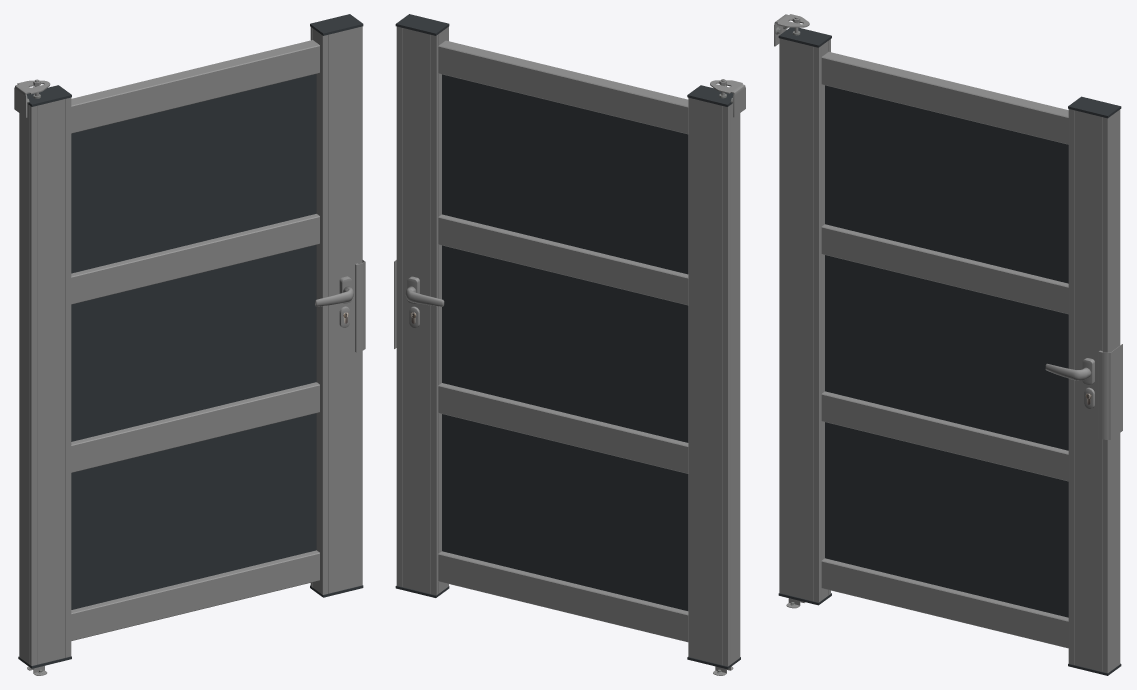
The picture shows the model from 3 angles, left to right: view 1: azimuth 30°, elevation 25°; view 2: azimuth 150°, elevation 25°; view 3: azimuth 330°, elevation 25°; orthographic projection.
Parts seen in each view (by area): view 1: Box2330, Shape107412643, Shape107412644, Shape107412142, Shape107412141, Shape107412135, Shape107412138, Shape107412637, Box2403, Rectangle057, Box2401; view 2: Box2330, Shape107412643, Shape107412644, Shape107412142, Shape107412141, Shape107412138, Shape107412135, Box2403, Rectangle057, Box2401; view 3: Box2330, Shape107412644, Shape107412643, Shape107412142, Shape107412141, Shape107412138, Shape107412135, Shape107412637, Box2403, Box2401.
Boxes of the visible parts, x1,y1,x2,y2 form: Box2330: [71, 74, 316, 609]; Shape107412643: [19, 97, 71, 665]; Shape107412644: [310, 26, 362, 594]; Shape107412142: [71, 40, 319, 133]; Shape107412141: [71, 550, 319, 640]; Shape107412135: [71, 382, 319, 472]; Shape107412138: [71, 214, 319, 304]; Shape107412637: [355, 260, 365, 352]; Box2403: [310, 14, 363, 35]; Rectangle057: [14, 80, 50, 117]; Box2401: [26, 85, 71, 106]; Box2330: [442, 74, 688, 610]; Shape107412643: [688, 97, 740, 666]; Shape107412644: [396, 26, 448, 595]; Shape107412142: [438, 40, 688, 134]; Shape107412141: [438, 551, 688, 642]; Shape107412138: [438, 214, 688, 305]; Shape107412135: [438, 383, 688, 473]; Box2403: [395, 14, 449, 35]; Rectangle057: [710, 80, 745, 117]; Box2401: [687, 85, 733, 106]; Box2330: [825, 85, 1068, 617]; Shape107412644: [1068, 109, 1120, 672]; Shape107412643: [779, 38, 830, 602]; Shape107412142: [821, 52, 1068, 144]; Shape107412141: [821, 558, 1068, 648]; Shape107412138: [821, 224, 1068, 314]; Shape107412135: [821, 391, 1068, 481]; Shape107412637: [1098, 344, 1122, 439]; Box2403: [1068, 96, 1121, 118]; Box2401: [778, 27, 831, 47].
Size of the model in its own units: 1014 by 1688 by 171.
Materials: 8 (4 with a texture image).
